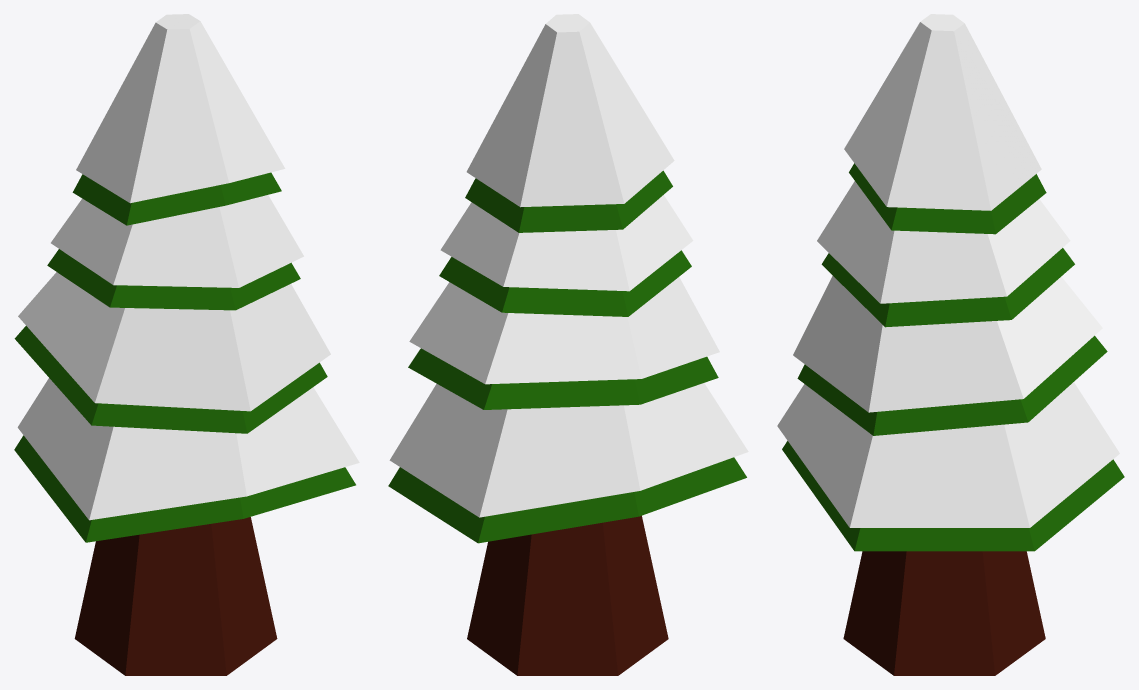
Rendered from tree_mid_snowy.obj.
3 views of the same model, side by side, from view 1: azimuth 30°, elevation 25°; view 2: azimuth 150°, elevation 25°; view 3: azimuth 270°, elevation 25° (orthographic).
Visible parts, largest first — view 1: Cylinder.007, Cylinder, Cylinder.008, Cylinder.003, Cylinder.006, Cylinder.001, Cylinder.002, Cylinder.004, Cylinder.005; view 2: Cylinder.008, Cylinder, Cylinder.003, Cylinder.007, Cylinder.006, Cylinder.001, Cylinder.002, Cylinder.004, Cylinder.005; view 3: Cylinder.008, Cylinder.003, Cylinder.007, Cylinder, Cylinder.006, Cylinder.001, Cylinder.002, Cylinder.004, Cylinder.005.
Boxes of the visible parts, bbox=[...] form: Cylinder.007: bbox=[18, 272, 330, 411]; Cylinder: bbox=[74, 517, 277, 675]; Cylinder.008: bbox=[17, 378, 359, 520]; Cylinder.003: bbox=[76, 14, 285, 203]; Cylinder.006: bbox=[51, 195, 303, 287]; Cylinder.001: bbox=[14, 435, 355, 542]; Cylinder.002: bbox=[14, 326, 327, 433]; Cylinder.004: bbox=[47, 249, 300, 310]; Cylinder.005: bbox=[72, 172, 281, 225]; Cylinder.008: bbox=[389, 383, 748, 517]; Cylinder: bbox=[467, 515, 668, 675]; Cylinder.003: bbox=[466, 14, 674, 207]; Cylinder.007: bbox=[409, 277, 719, 384]; Cylinder.006: bbox=[440, 195, 693, 291]; Cylinder.001: bbox=[388, 457, 746, 543]; Cylinder.002: bbox=[408, 348, 718, 409]; Cylinder.004: bbox=[439, 250, 691, 316]; Cylinder.005: bbox=[465, 170, 672, 232]; Cylinder.008: bbox=[777, 382, 1119, 527]; Cylinder.003: bbox=[844, 14, 1041, 210]; Cylinder.007: bbox=[793, 276, 1102, 412]; Cylinder: bbox=[843, 551, 1045, 675]; Cylinder.006: bbox=[817, 181, 1070, 303]; Cylinder.001: bbox=[782, 441, 1124, 551]; Cylinder.002: bbox=[797, 335, 1107, 435]; Cylinder.004: bbox=[821, 248, 1074, 327]; Cylinder.005: bbox=[849, 163, 1046, 234].
Size of the model in its own units: 3.1 by 6.74 by 3.44.
